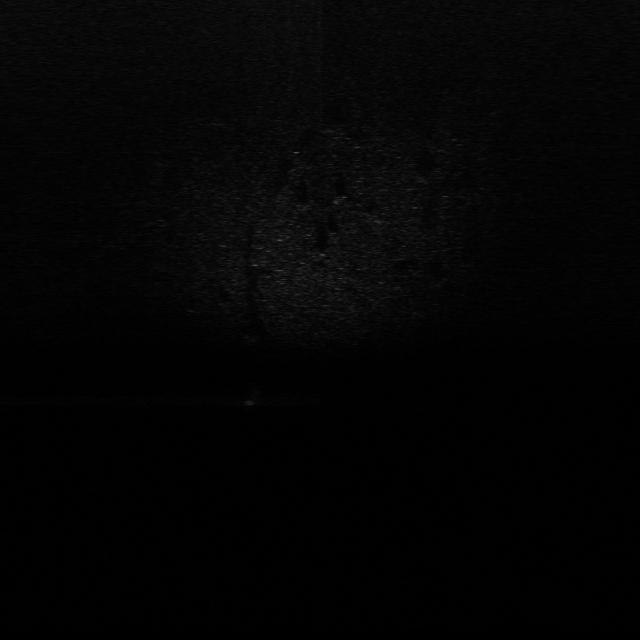human body: (240, 375, 270, 415)
